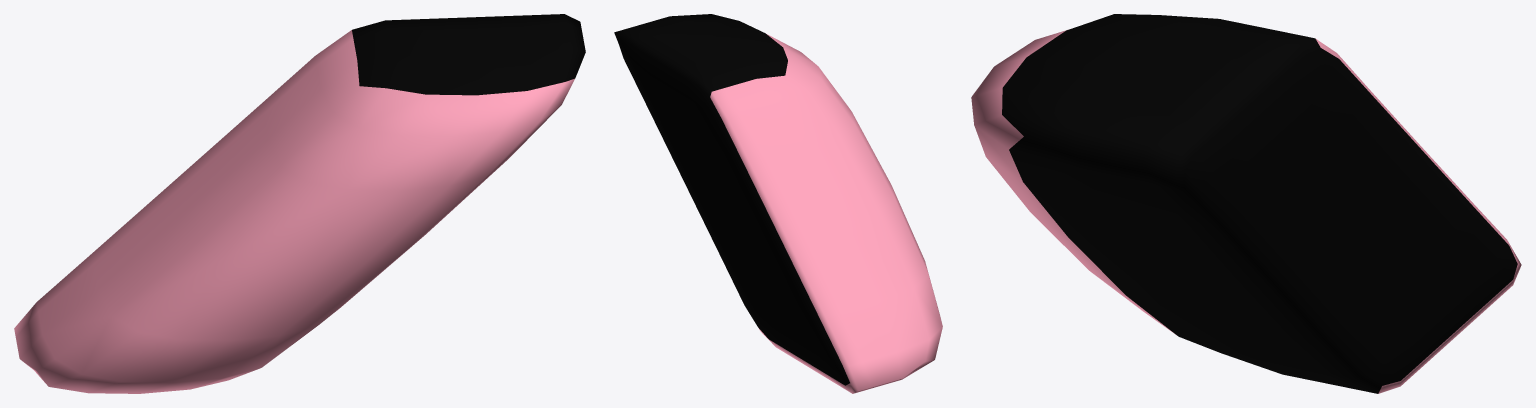
3 views of the same model, side by side, from view 1: azimuth 30°, elevation 25°; view 2: azimuth 150°, elevation 25°; view 3: azimuth 270°, elevation 25° (orthographic). The views are drawn at different scales.
Parts seen in each view (by area): view 1: Box1248; view 2: Box1248; view 3: Box1248.
Part boxes in pixels (x1,y1,x2,y2): Box1248: [14, 14, 585, 393]; Box1248: [614, 14, 942, 393]; Box1248: [971, 14, 1521, 393].
Size of the model in its own units: 0.0596 by 0.0357 by 0.0403.
